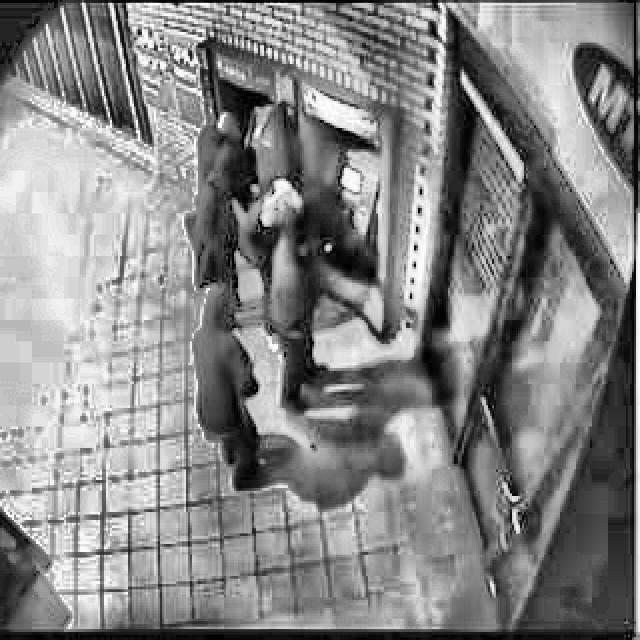burglary: (179, 91, 379, 415)
